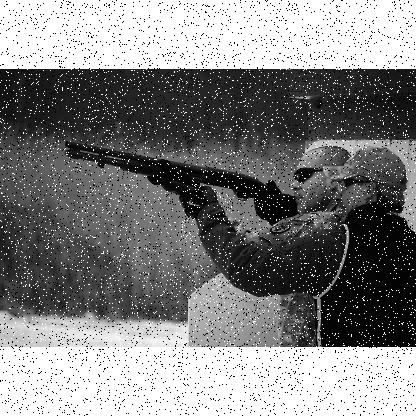gun: (65, 138, 295, 224)
